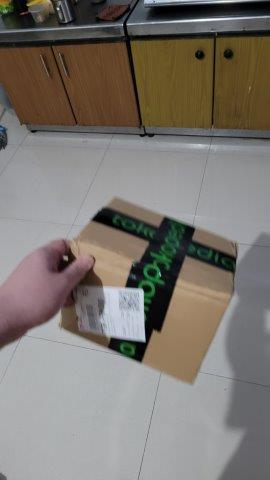kardus: (60, 198, 238, 381)
